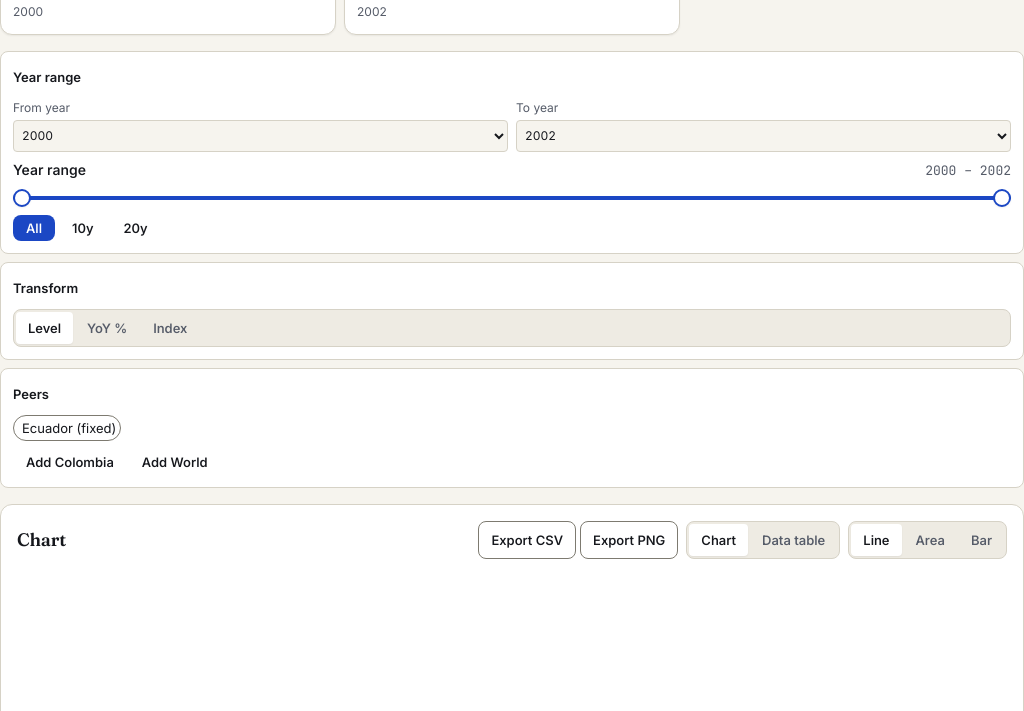
Test: ExplorePage › updates the URL when controls change
This screenshot has width=1024, height=711.
(page scrolled)
What coordinates should you click on to do the following:
click the radio button labelled "YoY %"
I would click on:
 (107, 328)
Its box is [75,312,139,344].
(page scrolled)
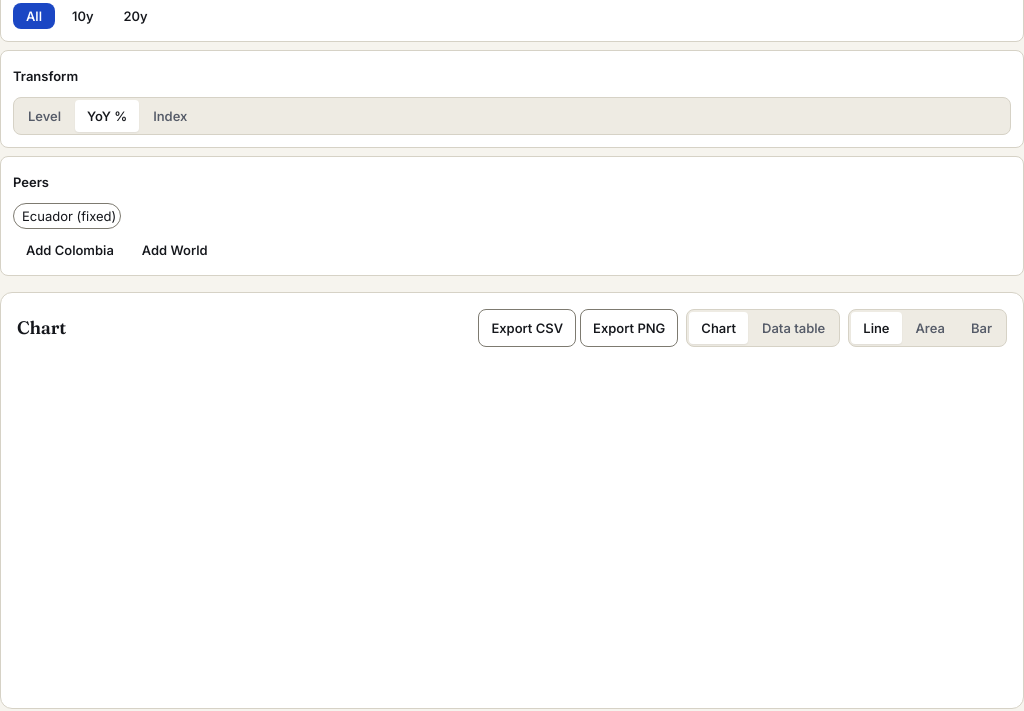
What coordinates should you click on to do the following:
click the radio button labelled "Bar"
I would click on:
 (981, 328)
Its box is [959,312,1004,344].
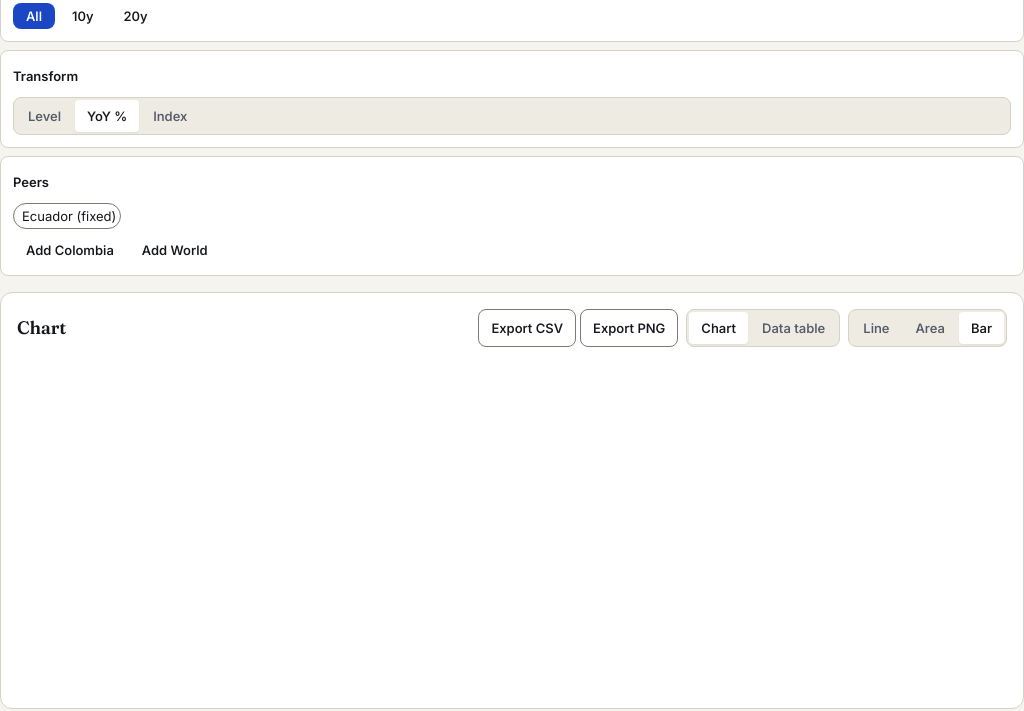
What coordinates should you click on to do the following:
click the radio button labelled "Data table"
I would click on:
 (794, 328)
Its box is [750,312,837,344].
(page scrolled)
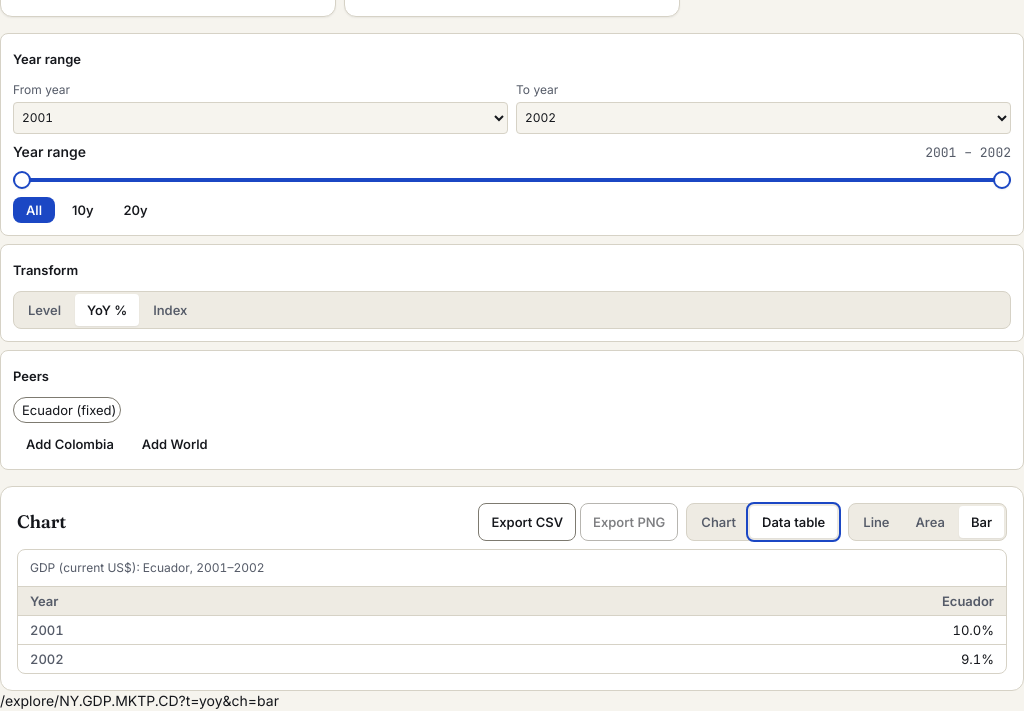
expect the table is shown: met, box [18,550,1006,672]
